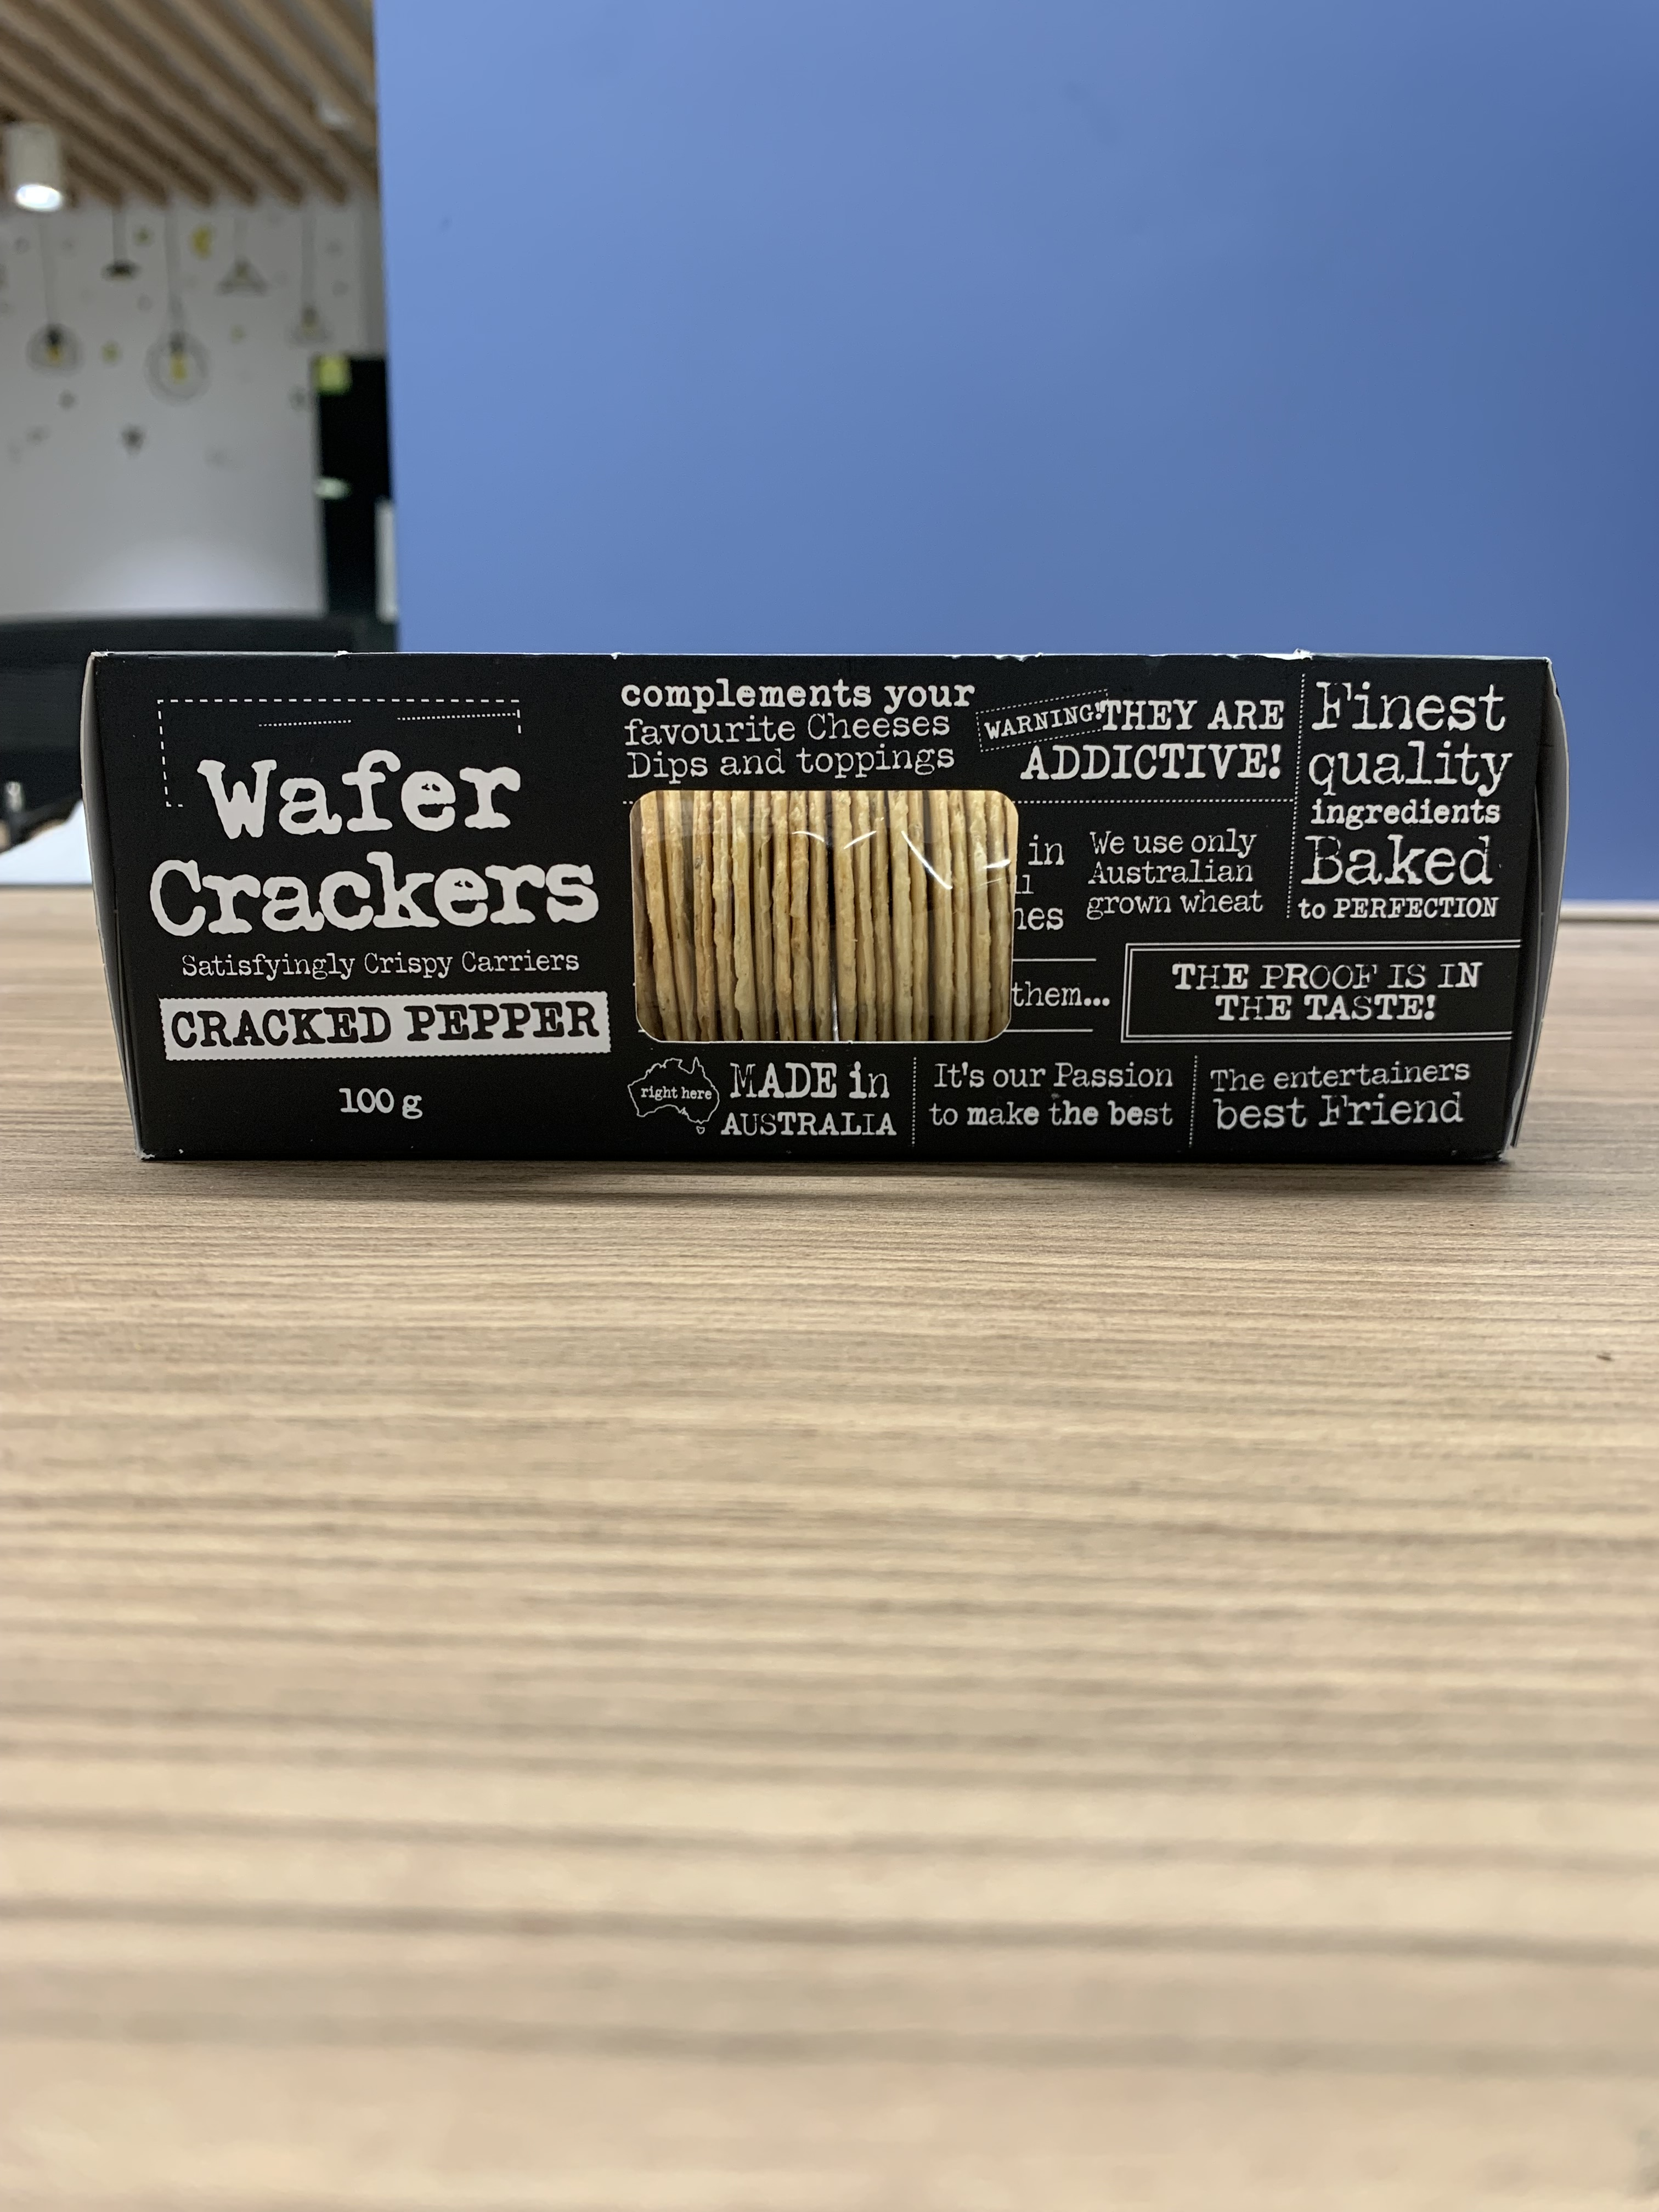crackers_100g-199g: (87, 650, 1527, 1163)
